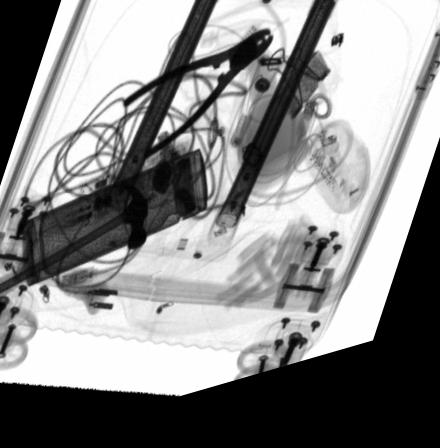Hammer: (0, 191, 148, 299)
Pliers: (125, 43, 274, 166)
